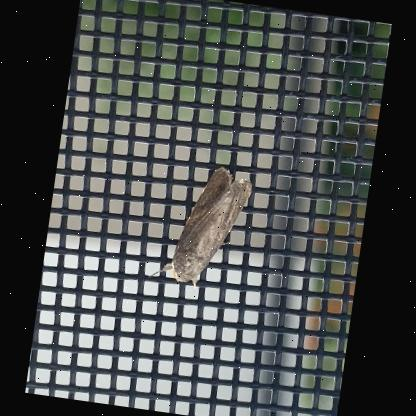Fall Armyworm Moth: (146, 156, 256, 296)
